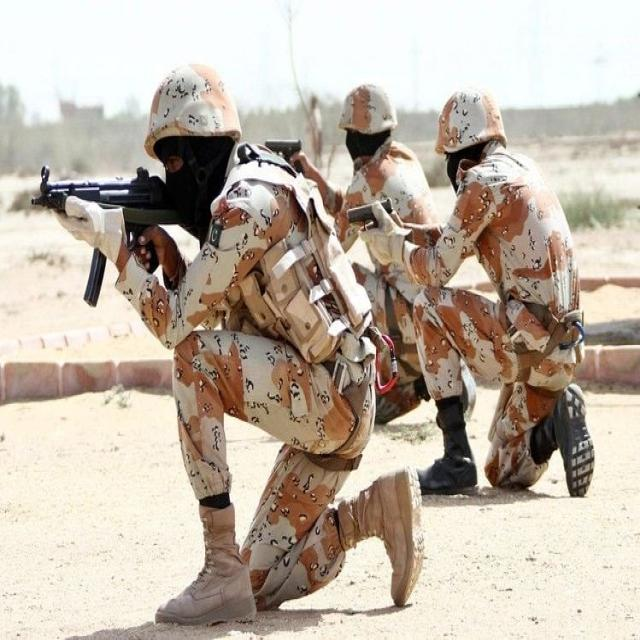Militant: (39, 34, 431, 619), (407, 66, 600, 533), (289, 63, 486, 428)
